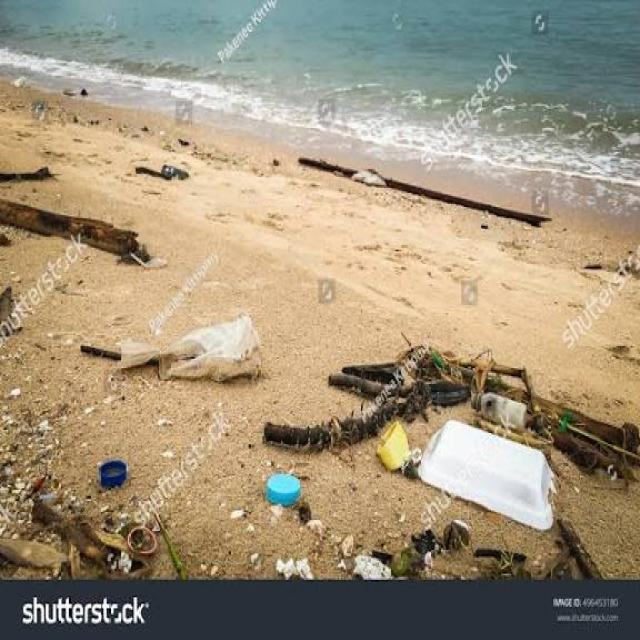styrofoam: (381, 381, 554, 535), (128, 296, 306, 413)
